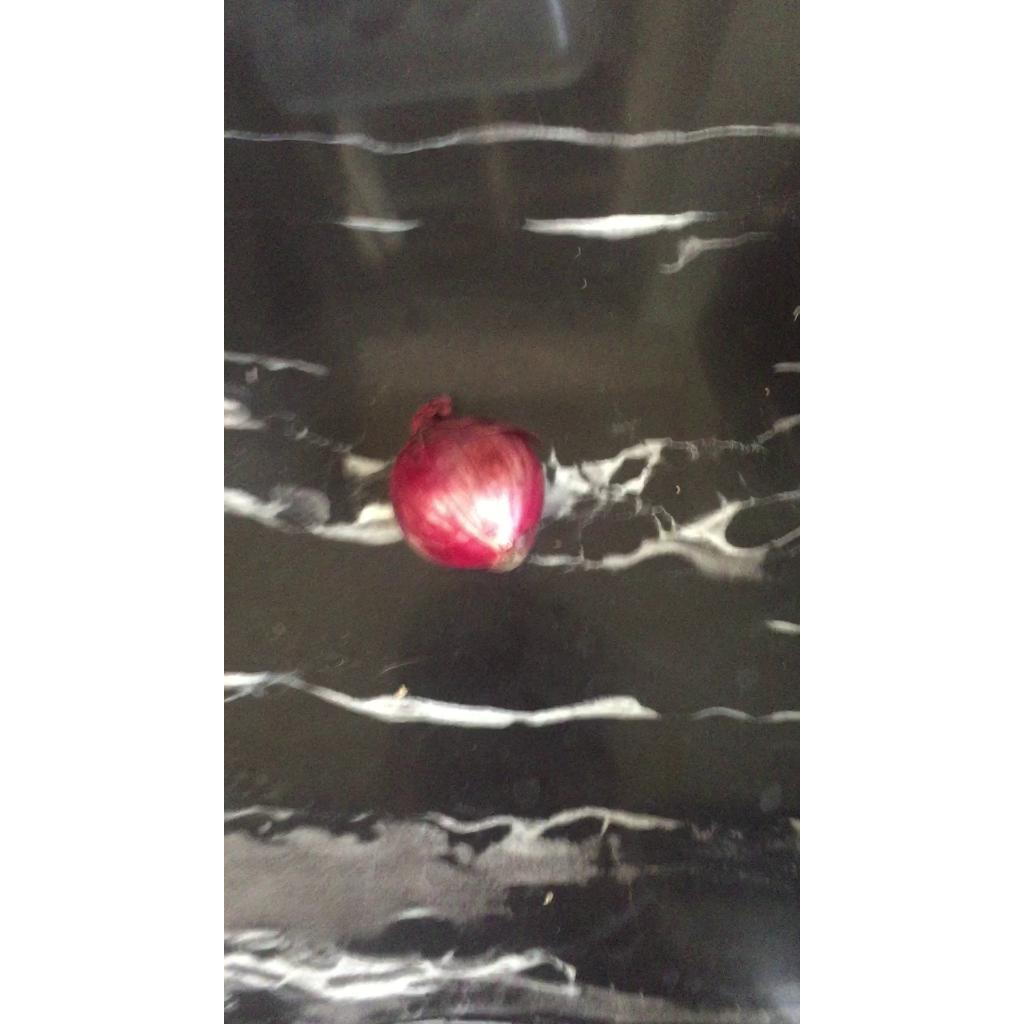Onion: (390, 395, 545, 572)
